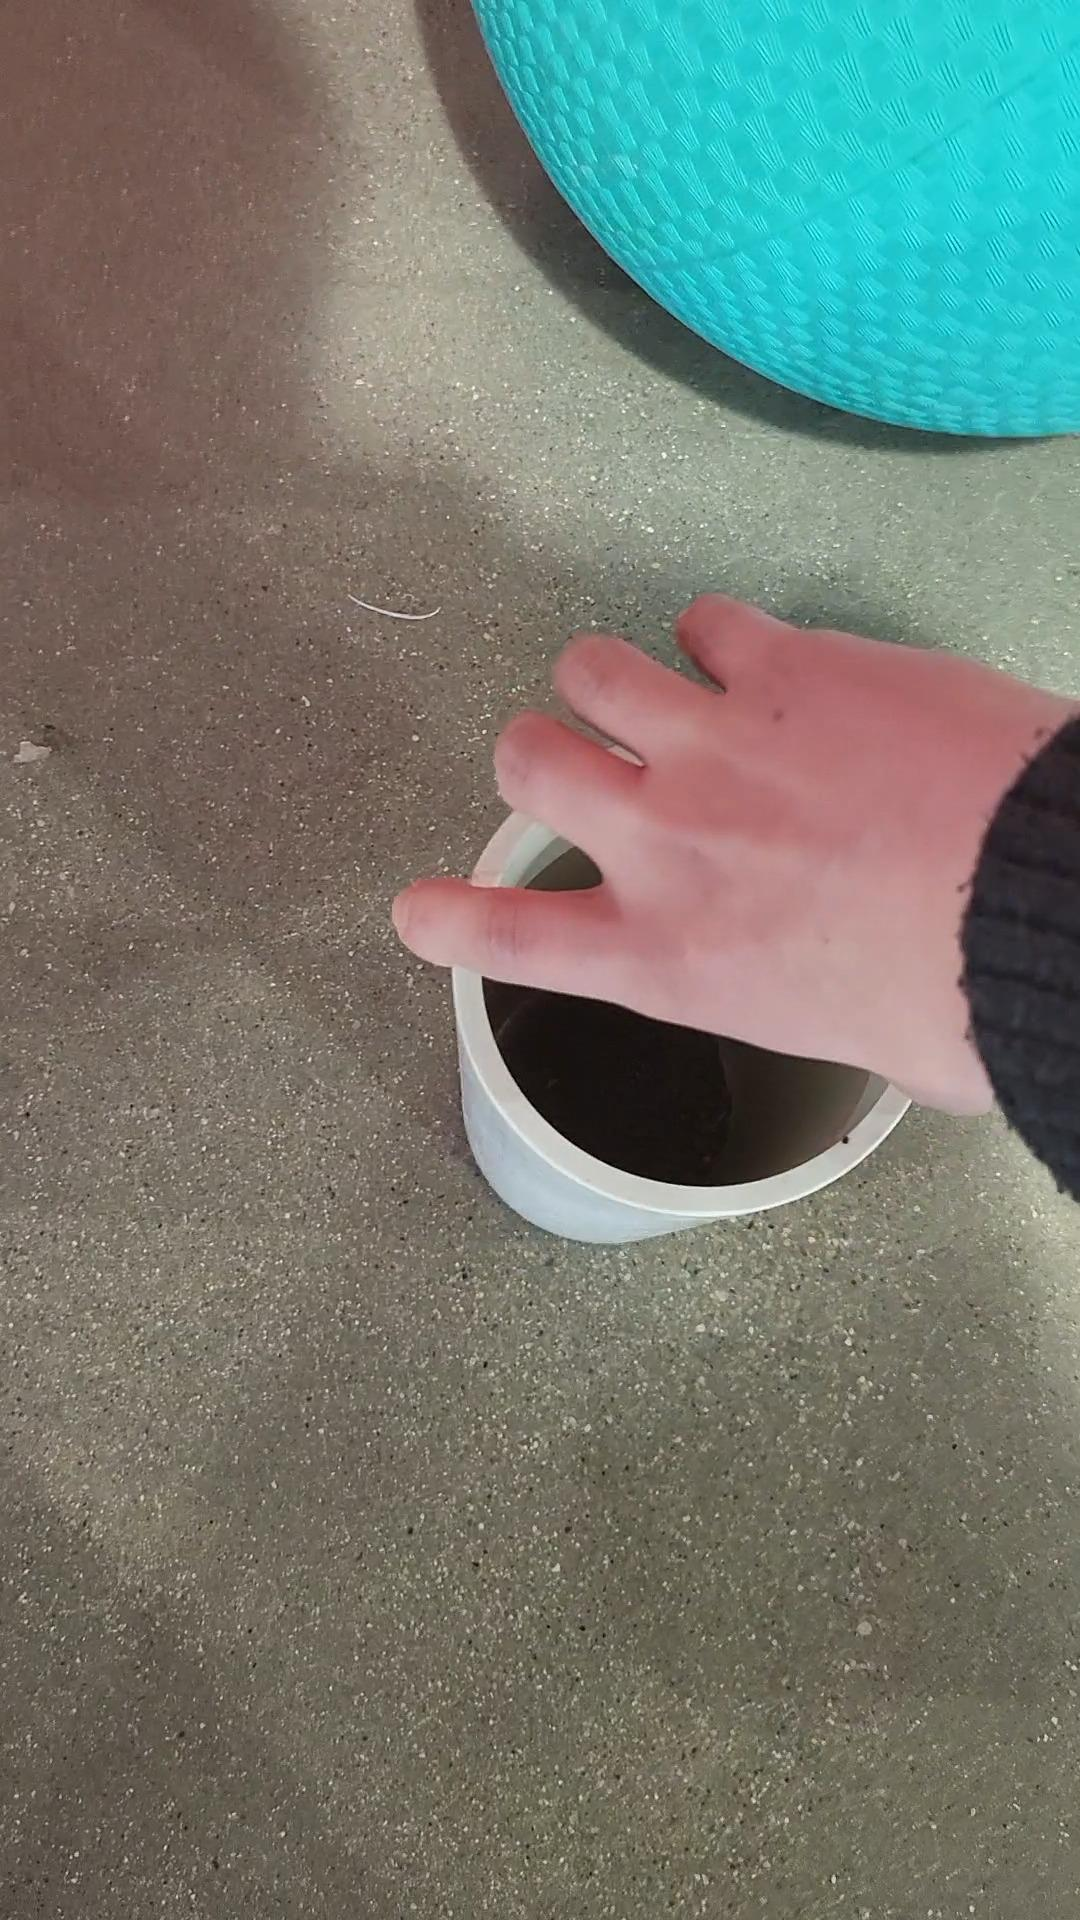algae: (465, 0, 1080, 448)
coral: (451, 775, 923, 1257)
